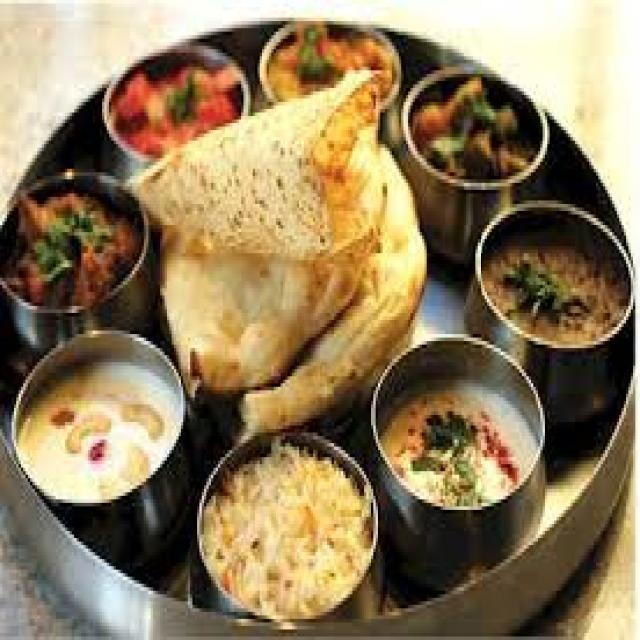curd: (12, 331, 190, 529)
papad: (140, 69, 414, 405)
rice: (199, 433, 369, 627)
sambar-rasam: (104, 36, 256, 166)
sweet: (9, 335, 189, 528), (373, 361, 539, 527), (107, 33, 251, 165)
veg-fry: (377, 361, 533, 525), (9, 176, 145, 332), (484, 220, 618, 350)
